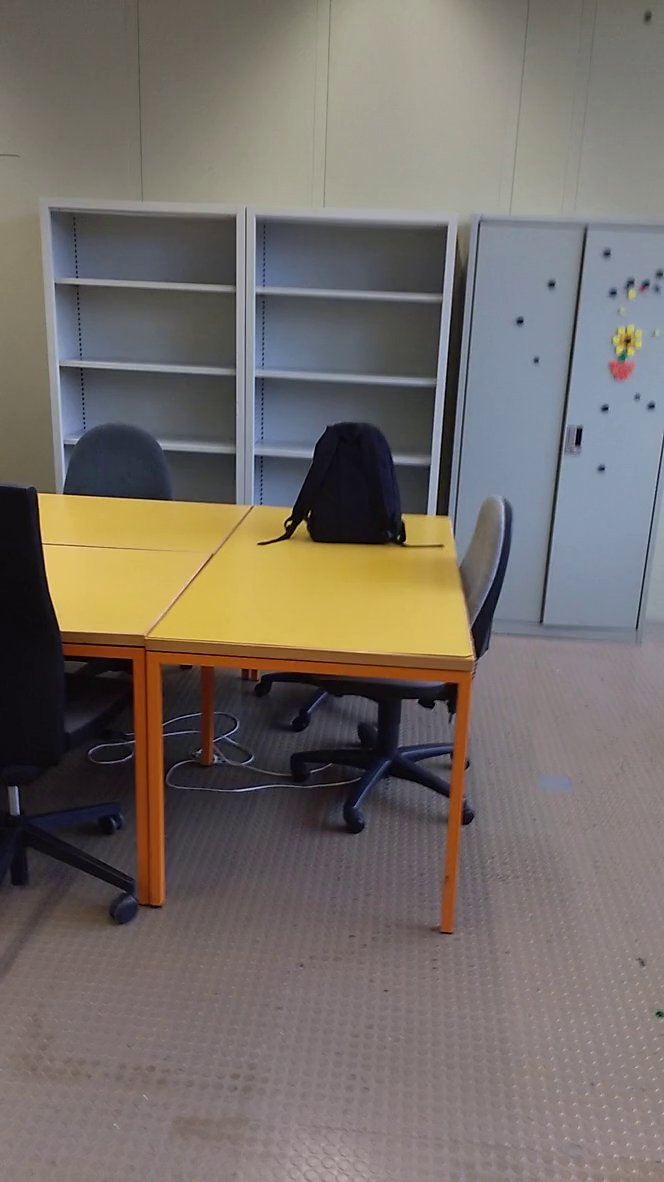bag: (254, 409, 455, 566)
chair: (284, 494, 526, 840), (58, 411, 185, 517)
